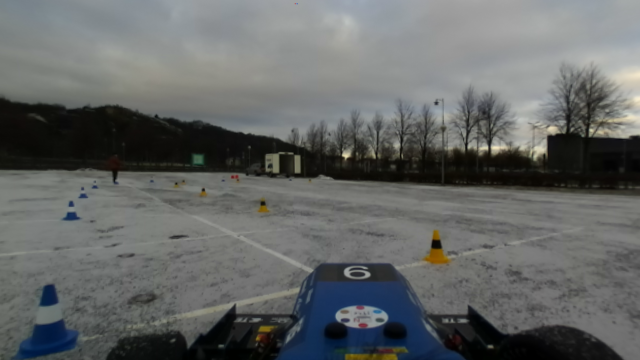yellow: (420, 224, 454, 269), (254, 195, 272, 216)
